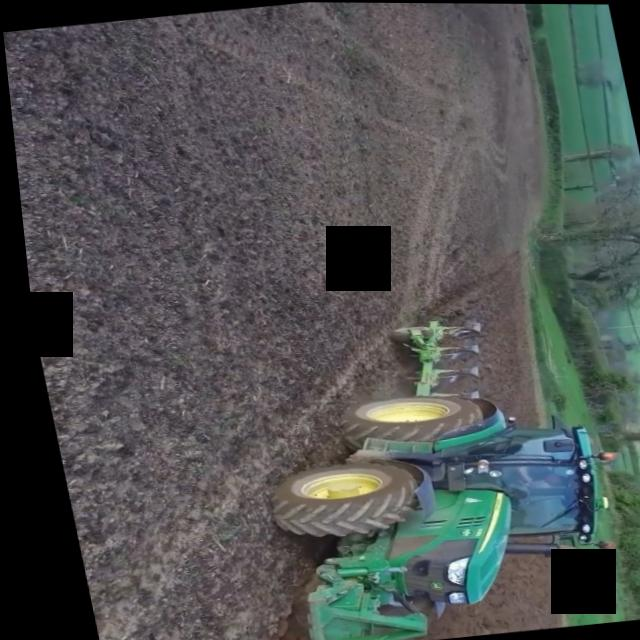Vehicle: (196, 296, 640, 640)
